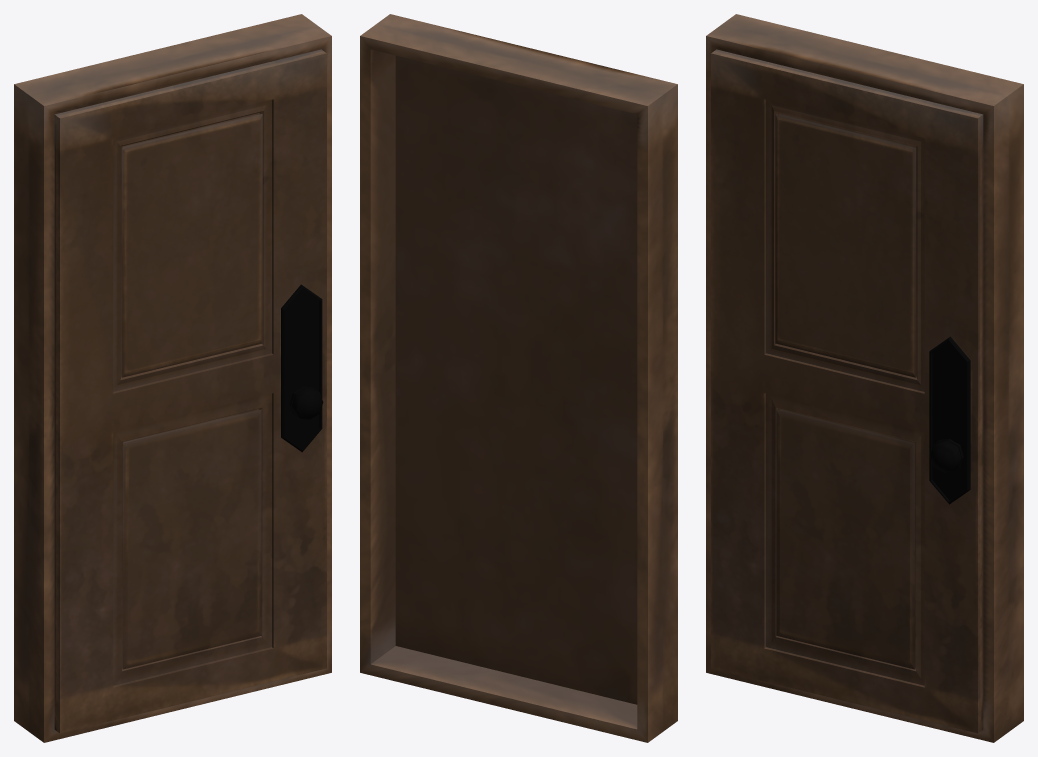
The model's file is Door.fbx.
3 views of the same model, side by side, from view 1: azimuth 30°, elevation 25°; view 2: azimuth 150°, elevation 25°; view 3: azimuth 330°, elevation 25° (orthographic).
Visible parts, largest first — view 1: SK_Door; view 2: SK_Door; view 3: SK_Door.
Boxes of the visible parts, x1,y1,x2,y2 form: SK_Door: (14,14,331,742); SK_Door: (360,14,677,742); SK_Door: (706,14,1023,742).
Size of the model in its own units: 121 by 255 by 34.86.
